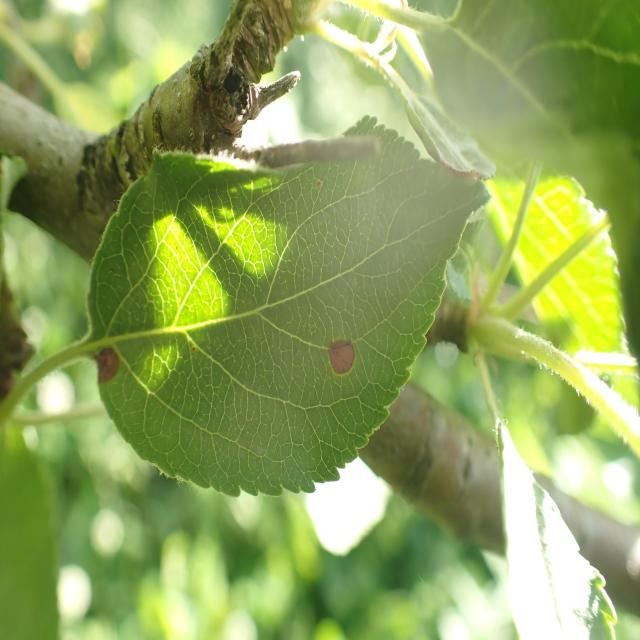Black Rot: (82, 340, 128, 410), (317, 321, 368, 381)
